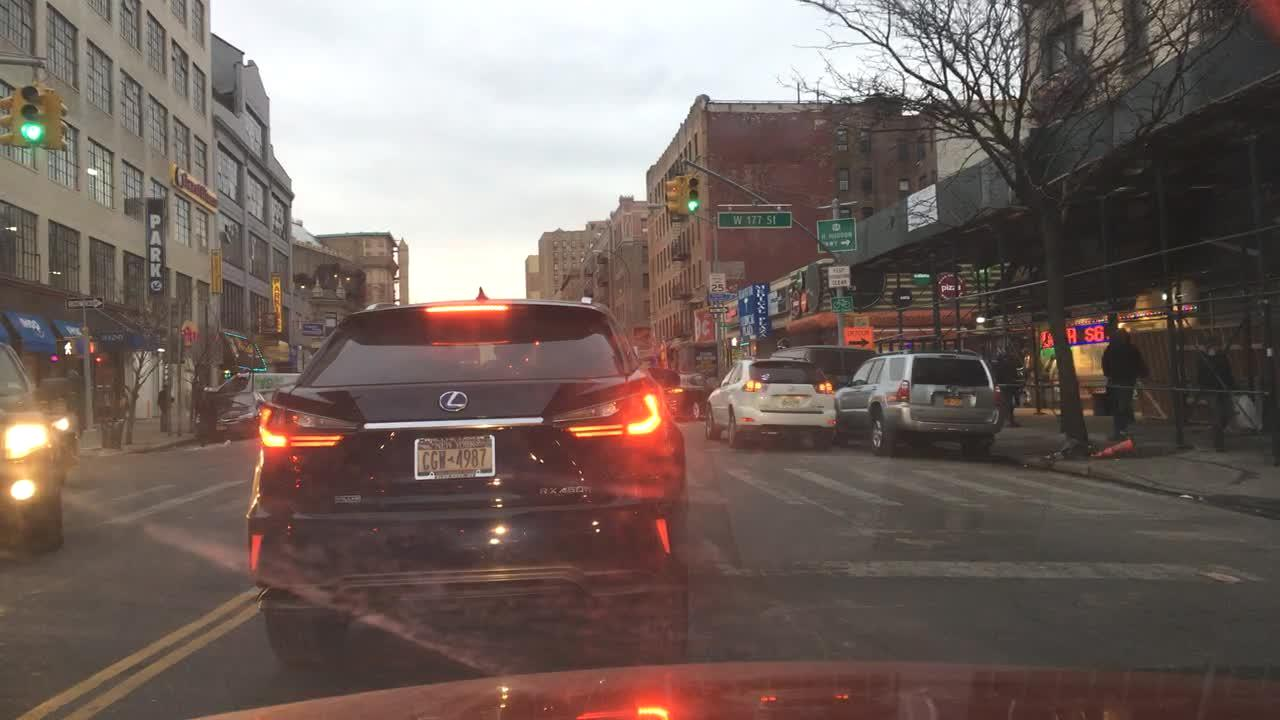lexus: (435, 384, 470, 416)
